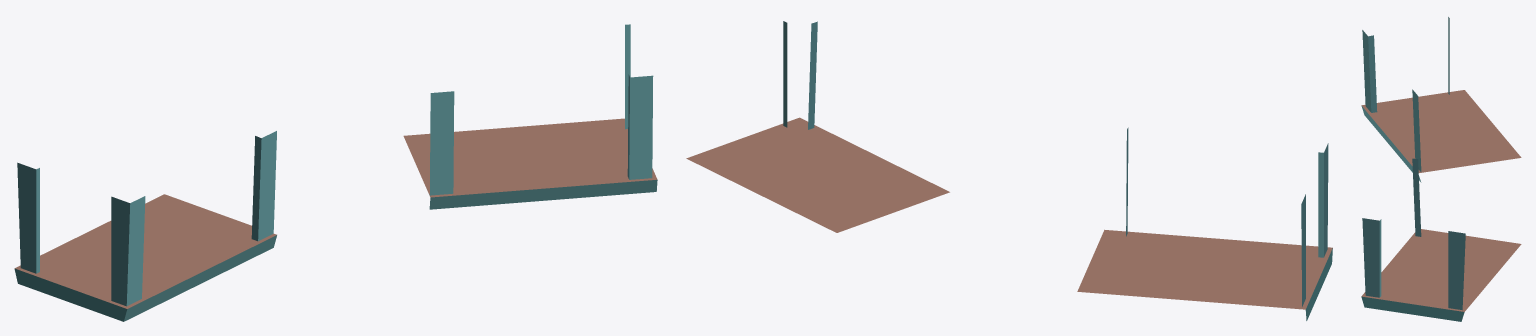
File: DisneyStoreWoodWalls_4.glb
The picture shows the model from 3 angles, left to right: view 1: azimuth 30°, elevation 25°; view 2: azimuth 150°, elevation 25°; view 3: azimuth 270°, elevation 25°; orthographic projection. The views are drawn at different scales.
Visible parts, largest first — view 1: DisneyStoreWoodWalls; view 2: DisneyStoreWoodWalls; view 3: DisneyStoreWoodWalls.
Boxes of the visible parts, x1=… form: DisneyStoreWoodWalls: x1=14, y1=24, x2=657, y2=321; DisneyStoreWoodWalls: x1=686, y1=21, x2=1332, y2=320; DisneyStoreWoodWalls: x1=1361, y1=17, x2=1521, y2=321.
Size of the model in its own units: 10.47 by 1.93 by 3.2.
